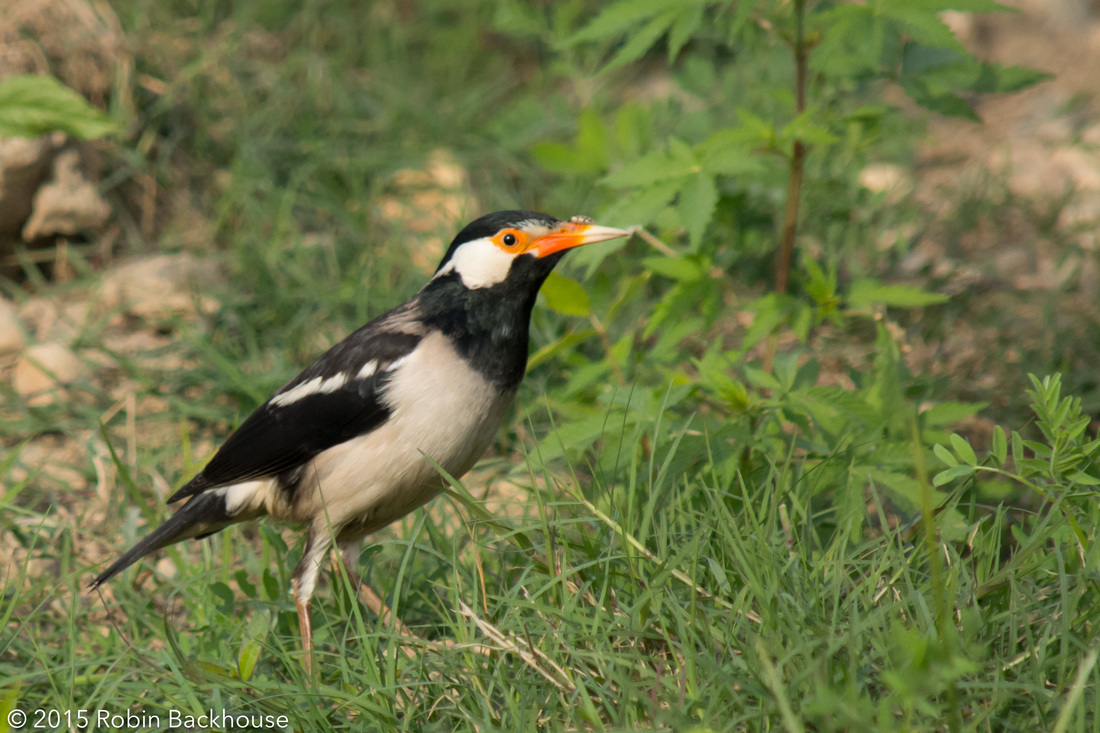bird: (68, 185, 656, 696)
